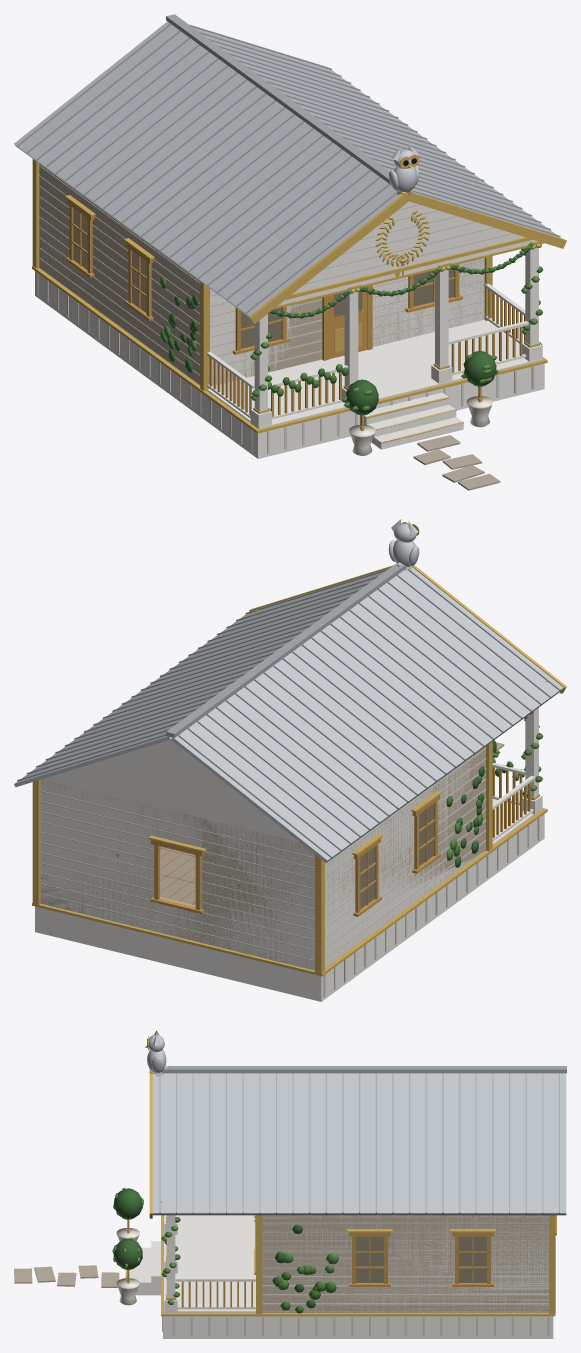
Rendered from athena_cabin.glb.
3 views of the same model, one above another, from view 1: azimuth 30°, elevation 25°; view 2: azimuth 150°, elevation 25°; view 3: azimuth 270°, elevation 25° (orthographic). The views are drawn at different scales.
Visible parts, largest first — view 1: ATH_metal_roof, ATH_white, ATH_roof_seam, INT_wood_wall, ATH_gold, ATH_honey_wood, ATH_siding_line, ATH_bay_leaf, ATH_window, ATH_bay_leaf_light, ATH_paver, ATH_urn (+3 smaller); view 2: ATH_metal_roof, ATH_white, ATH_roof_seam, INT_wood_wall, ATH_siding_line, ATH_gold, ATH_honey_wood, INT_wood_floor, ATH_window, ATH_roof_owl_owl_silver, ATH_bay_leaf; view 3: ATH_metal_roof, ATH_white, INT_wood_wall, ATH_roof_seam, ATH_siding_line, ATH_gold, ATH_honey_wood, ATH_window, ATH_bay_leaf, ATH_paver, ATH_bay_leaf_light, ATH_urn (+2 smaller).
Part boxes in pixels (left/top/right/bottom): ATH_metal_roof: left=14, top=21, right=560, bottom=316; ATH_white: left=35, top=180, right=544, bottom=458; ATH_roof_seam: left=17, top=14, right=560, bottom=313; INT_wood_wall: left=39, top=164, right=484, bottom=384; ATH_gold: left=32, top=154, right=566, bottom=443; ATH_honey_wood: left=66, top=199, right=525, bottom=430; ATH_siding_line: left=36, top=165, right=534, bottom=453; ATH_bay_leaf: left=168, top=247, right=528, bottom=415; ATH_window: left=73, top=208, right=454, bottom=348; ATH_bay_leaf_light: left=160, top=246, right=541, bottom=411; ATH_paver: left=413, top=435, right=500, bottom=490; ATH_urn: left=349, top=396, right=493, bottom=455; ATH_metal_roof: left=14, top=567, right=563, bottom=862; ATH_white: left=35, top=707, right=544, bottom=1001; ATH_roof_seam: left=17, top=563, right=560, bottom=857; INT_wood_wall: left=40, top=746, right=485, bottom=968; ATH_siding_line: left=40, top=748, right=539, bottom=997; ATH_gold: left=32, top=522, right=566, bottom=976; ATH_honey_wood: left=150, top=767, right=530, bottom=916; INT_wood_floor: left=41, top=846, right=485, bottom=969; ATH_window: left=360, top=803, right=433, bottom=908; ATH_roof_owl_owl_silver: left=388, top=519, right=419, bottom=570; ATH_bay_leaf: left=455, top=740, right=496, bottom=867; ATH_metal_roof: left=152, top=1073, right=566, bottom=1215; ATH_white: left=125, top=1215, right=553, bottom=1338; INT_wood_wall: left=262, top=1215, right=548, bottom=1311; ATH_roof_seam: left=159, top=1066, right=566, bottom=1213; ATH_siding_line: left=162, top=1222, right=549, bottom=1336; ATH_gold: left=125, top=1035, right=555, bottom=1316; ATH_honey_wood: left=127, top=1215, right=556, bottom=1307; ATH_window: left=356, top=1236, right=486, bottom=1282; ATH_bay_leaf: left=113, top=1188, right=324, bottom=1308; ATH_paver: left=14, top=1265, right=119, bottom=1287; ATH_bay_leaf_light: left=112, top=1188, right=338, bottom=1304; ATH_urn: left=116, top=1228, right=139, bottom=1305.
Size of what is drawn, in the model's own units: 8.06 by 6.85 by 13.95.
